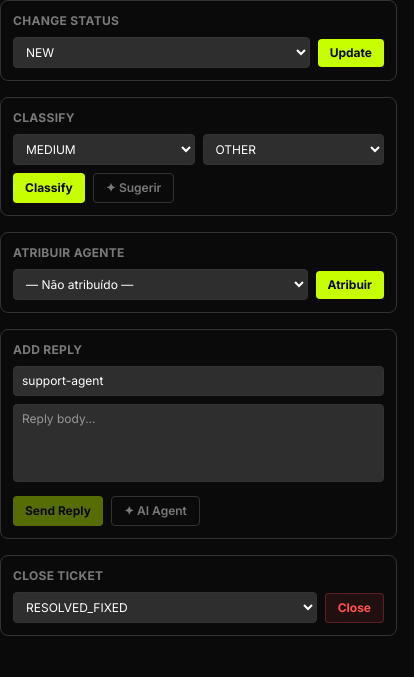
Scenario: ActionButtons — AI classify suggest › displays AI reasoning text after suggest
What coordinates should you click on to do the following:
click the button titled "sugerir categoria e prioridade"
I would click on:
 (134, 188)
Its box is [93, 173, 174, 203].
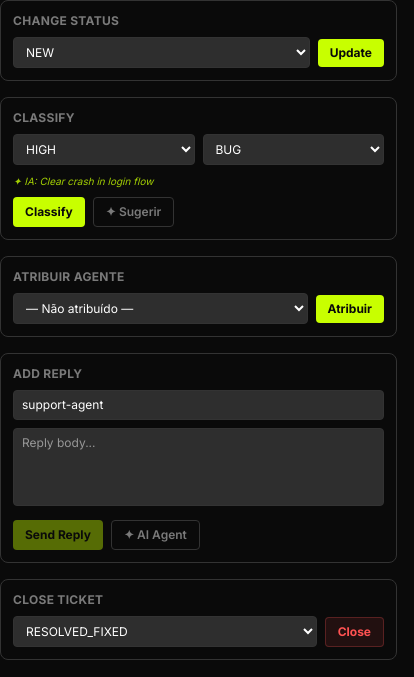
Expected: the text "✦ IA: Clear crash in login flow" is shown, [13, 175, 153, 187]
